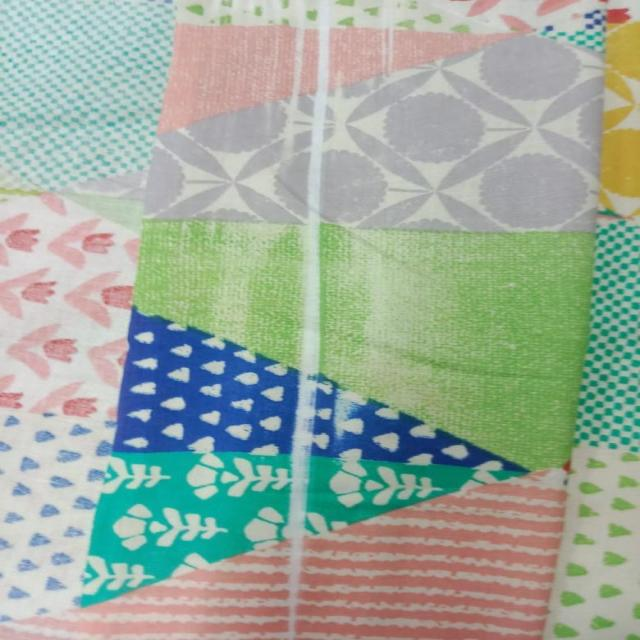selvet: (278, 172, 340, 636), (277, 4, 339, 168)
